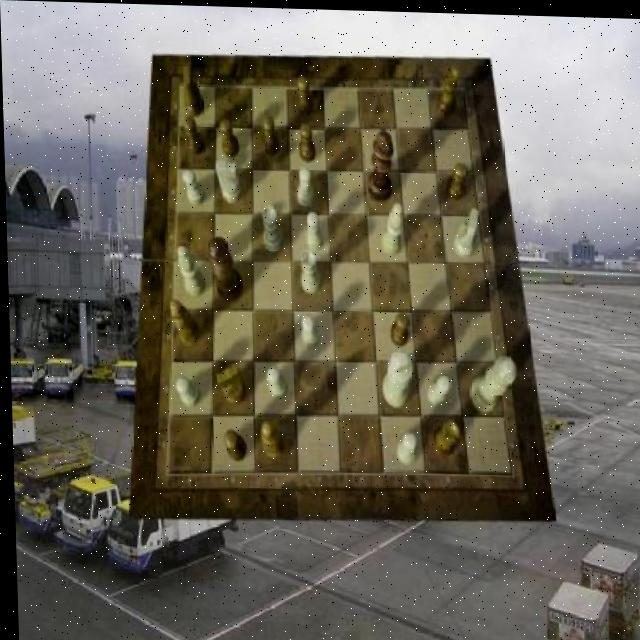bishop: (168, 299, 199, 345), (259, 418, 283, 456)
black-bishop: (366, 127, 394, 200)
black-king: (215, 362, 245, 404), (183, 64, 204, 117)
black-knight: (445, 160, 468, 199), (183, 115, 204, 156), (220, 118, 241, 158), (222, 430, 245, 463), (296, 75, 314, 116), (263, 114, 280, 156), (298, 122, 316, 161), (389, 311, 408, 346)
black-pawn: (205, 236, 242, 302)
black-queen: (435, 64, 459, 115), (430, 416, 458, 454)
black-rook: (176, 245, 205, 297), (380, 199, 404, 254)
white-bishop: (380, 347, 412, 406)
white-king: (452, 204, 480, 256), (216, 159, 241, 204)
white-knight: (425, 371, 449, 404), (182, 169, 204, 205), (394, 429, 416, 463), (296, 165, 314, 206), (265, 364, 286, 399), (173, 375, 198, 404), (303, 210, 322, 248), (301, 313, 319, 347)
white-pawn: (466, 352, 515, 411)
white-queen: (262, 205, 283, 253), (300, 247, 321, 293)
